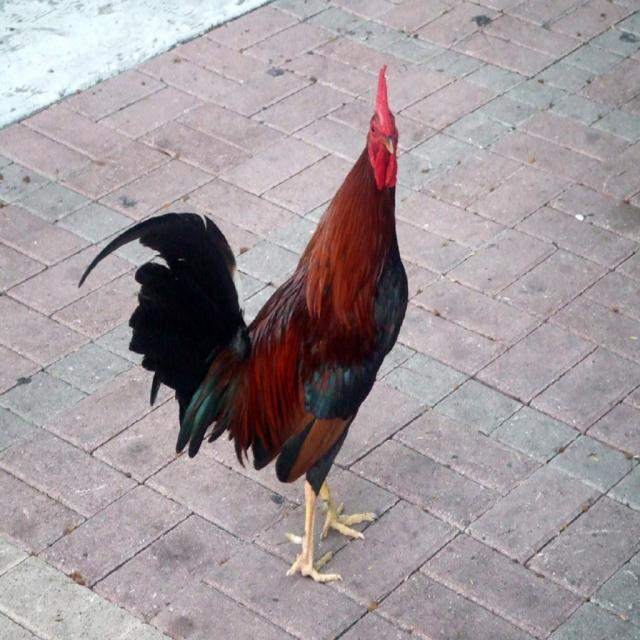Chicken: (78, 65, 408, 582)
